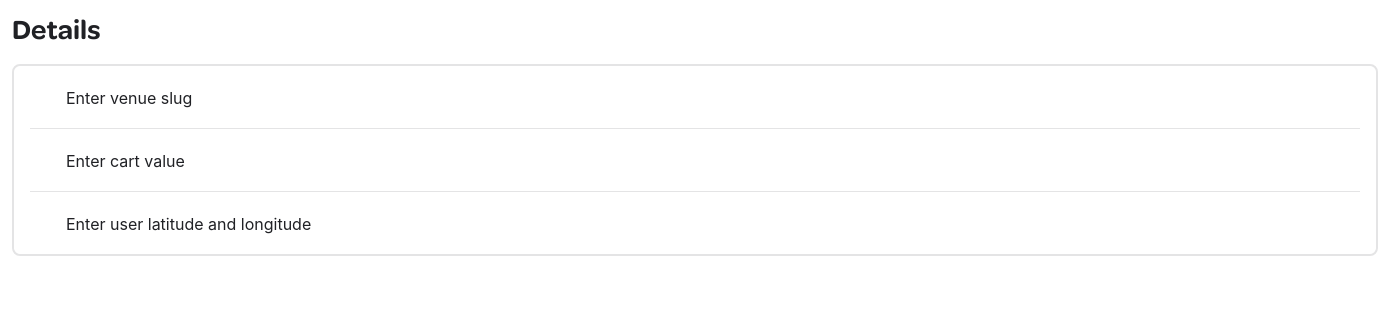
Test: Venue slug input › sets error when static request fails
The width and height of the screenshot is (1390, 317).
In the field with test id "venueSlug": (695, 97) left=14, top=66, right=1376, bottom=128, type "test_slug"
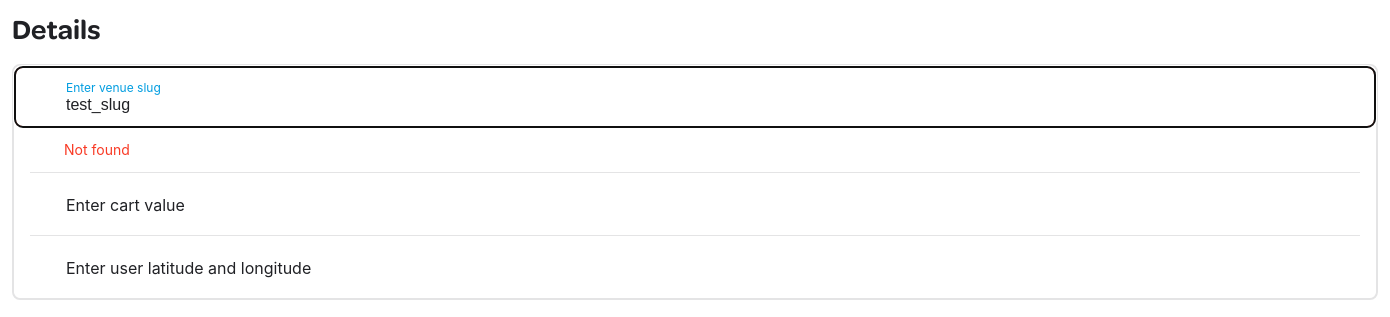
Expected: the text "Not found" is shown, left=64, top=141, right=130, bottom=158
